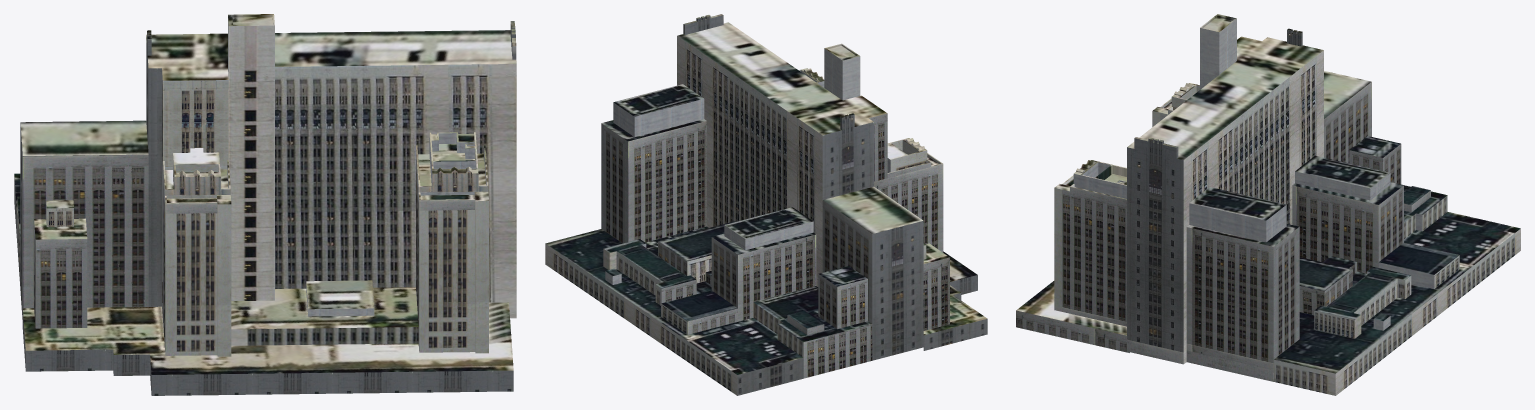
File: LA_USC_MED_CENTER.fbx
3 renders of one model, left to right at view 1: azimuth 30°, elevation 25°; view 2: azimuth 150°, elevation 25°; view 3: azimuth 270°, elevation 25°, orthographic. The views are drawn at different scales.
Parts seen in each view (by area): view 1: Model; view 2: Model; view 3: Model.
Boxes of the visible parts, x1,y1,x2,y2 form: Model: (14, 14, 516, 395); Model: (545, 14, 987, 395); Model: (1016, 14, 1520, 395).
Bounding box in the file's own units: 187 × 105 × 192.
